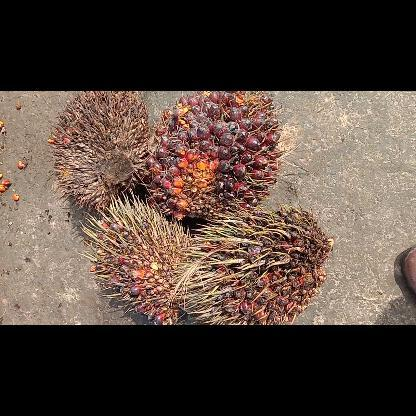Kurang masak: (175, 206, 335, 324)
TBS abnormal: (76, 190, 196, 324), (53, 90, 149, 208)
Terlalu masak: (147, 91, 281, 223)
